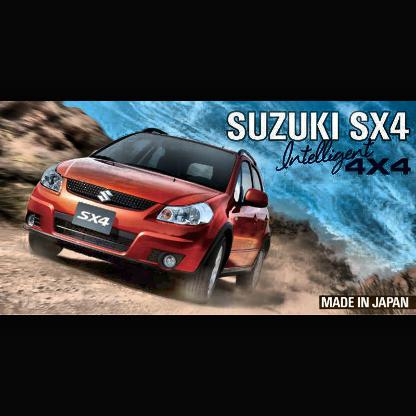Suzuki SX4 Hatchback 2012: (22, 125, 274, 305)
